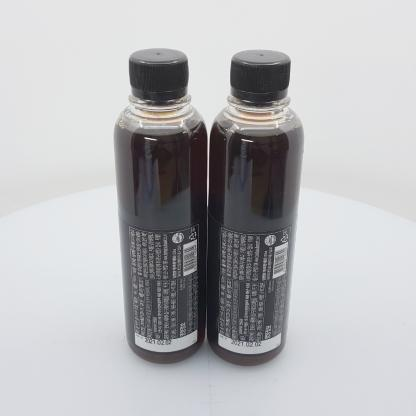--------------300ML: (206, 49, 304, 366), (113, 48, 208, 365)
